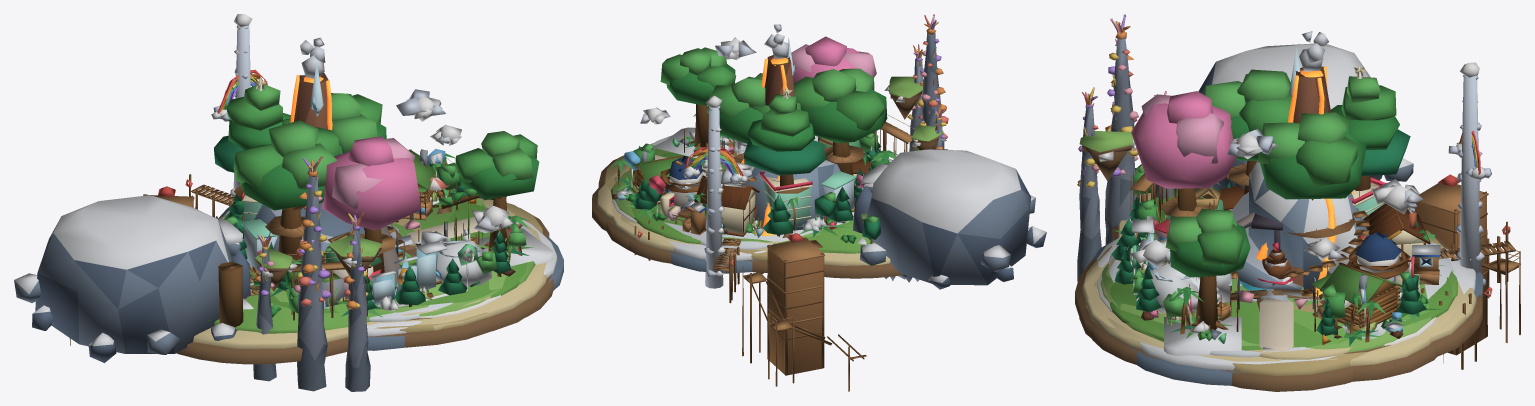
The model's file is ilhas-do-anel.glb.
The picture shows the model from 3 angles, left to right: view 1: azimuth 30°, elevation 25°; view 2: azimuth 150°, elevation 25°; view 3: azimuth 270°, elevation 25°; orthographic projection. The views are drawn at different scales.
Visible parts, largest first — view 1: pico, bosque, recife, nuvens, vale-dos-dinos, vila-doce; view 2: pico, bosque, nuvens, vila-doce, vale-dos-dinos, recife; view 3: bosque, pico, nuvens, vale-dos-dinos, recife, vila-doce.
Part boxes in pixels (box(x1,y1,x2,y2)): pico: box(14, 62, 563, 362); bosque: box(176, 84, 553, 364); recife: box(220, 156, 549, 391); nuvens: box(69, 14, 526, 345); vale-dos-dinos: box(249, 37, 552, 331); vila-doce: box(241, 77, 549, 344); pico: box(615, 37, 1046, 303); bosque: box(621, 36, 947, 278); nuvens: box(611, 37, 946, 391); vila-doce: box(592, 87, 871, 238); vale-dos-dinos: box(606, 24, 897, 250); recife: box(598, 14, 948, 282); bosque: box(1086, 69, 1482, 371); pico: box(1091, 43, 1515, 385); nuvens: box(1079, 62, 1520, 369); vale-dos-dinos: box(1079, 31, 1475, 356); recife: box(1075, 14, 1492, 391); vila-doce: box(1075, 64, 1444, 381).
Size of the model in its own units: 46.04 by 29.18 by 33.3.
